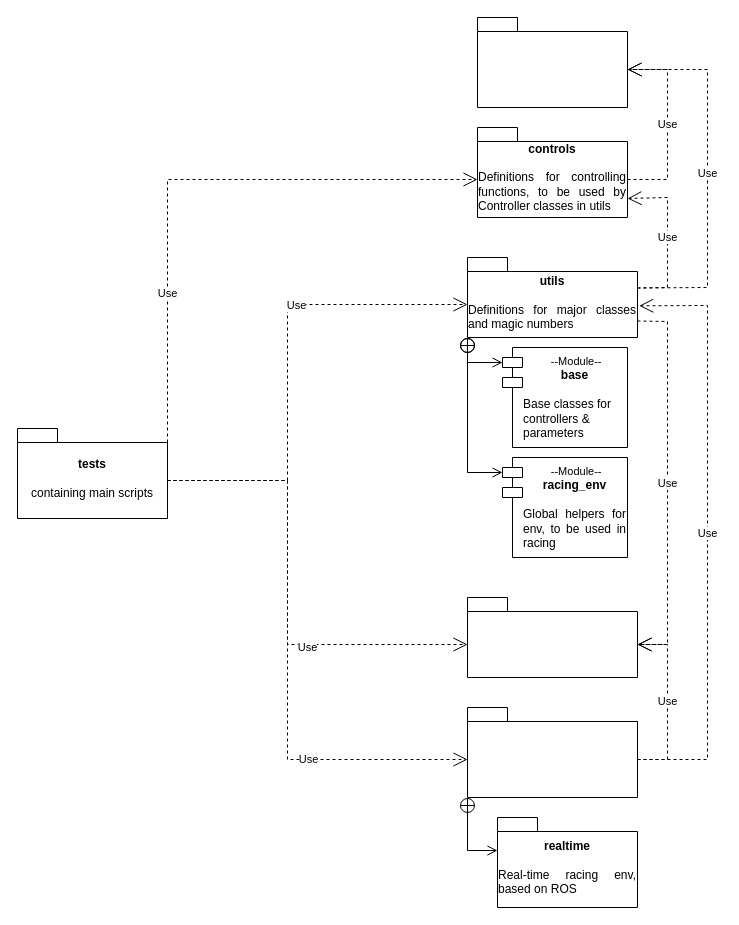
The diagram is 739 pixels wide and 925 high, and some of its shapes have lost their labels. The box of each missing label's shape, as (x1, y1, x2, y2) in pixels:
planning Definitions for planners, to be used in controllers: (476, 16, 628, 108)
racing for simulator or real time car racing (based on ROS): (466, 706, 638, 798)
system helper functions for dynamics: (466, 596, 638, 678)
